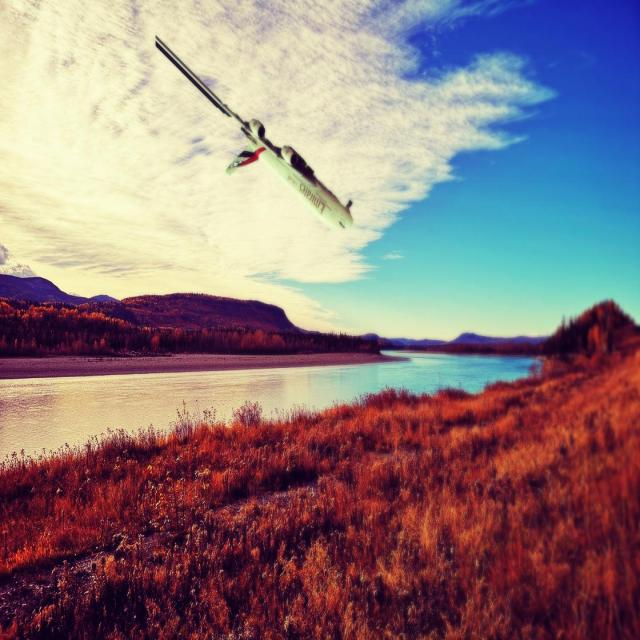airplane: (154, 34, 354, 232)
